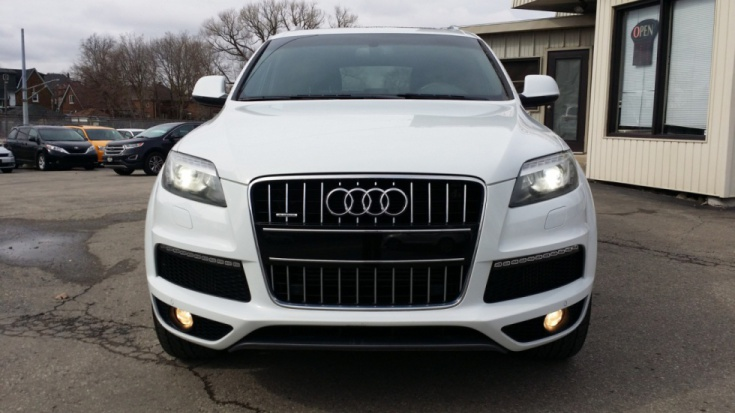audi: (317, 183, 419, 223)
